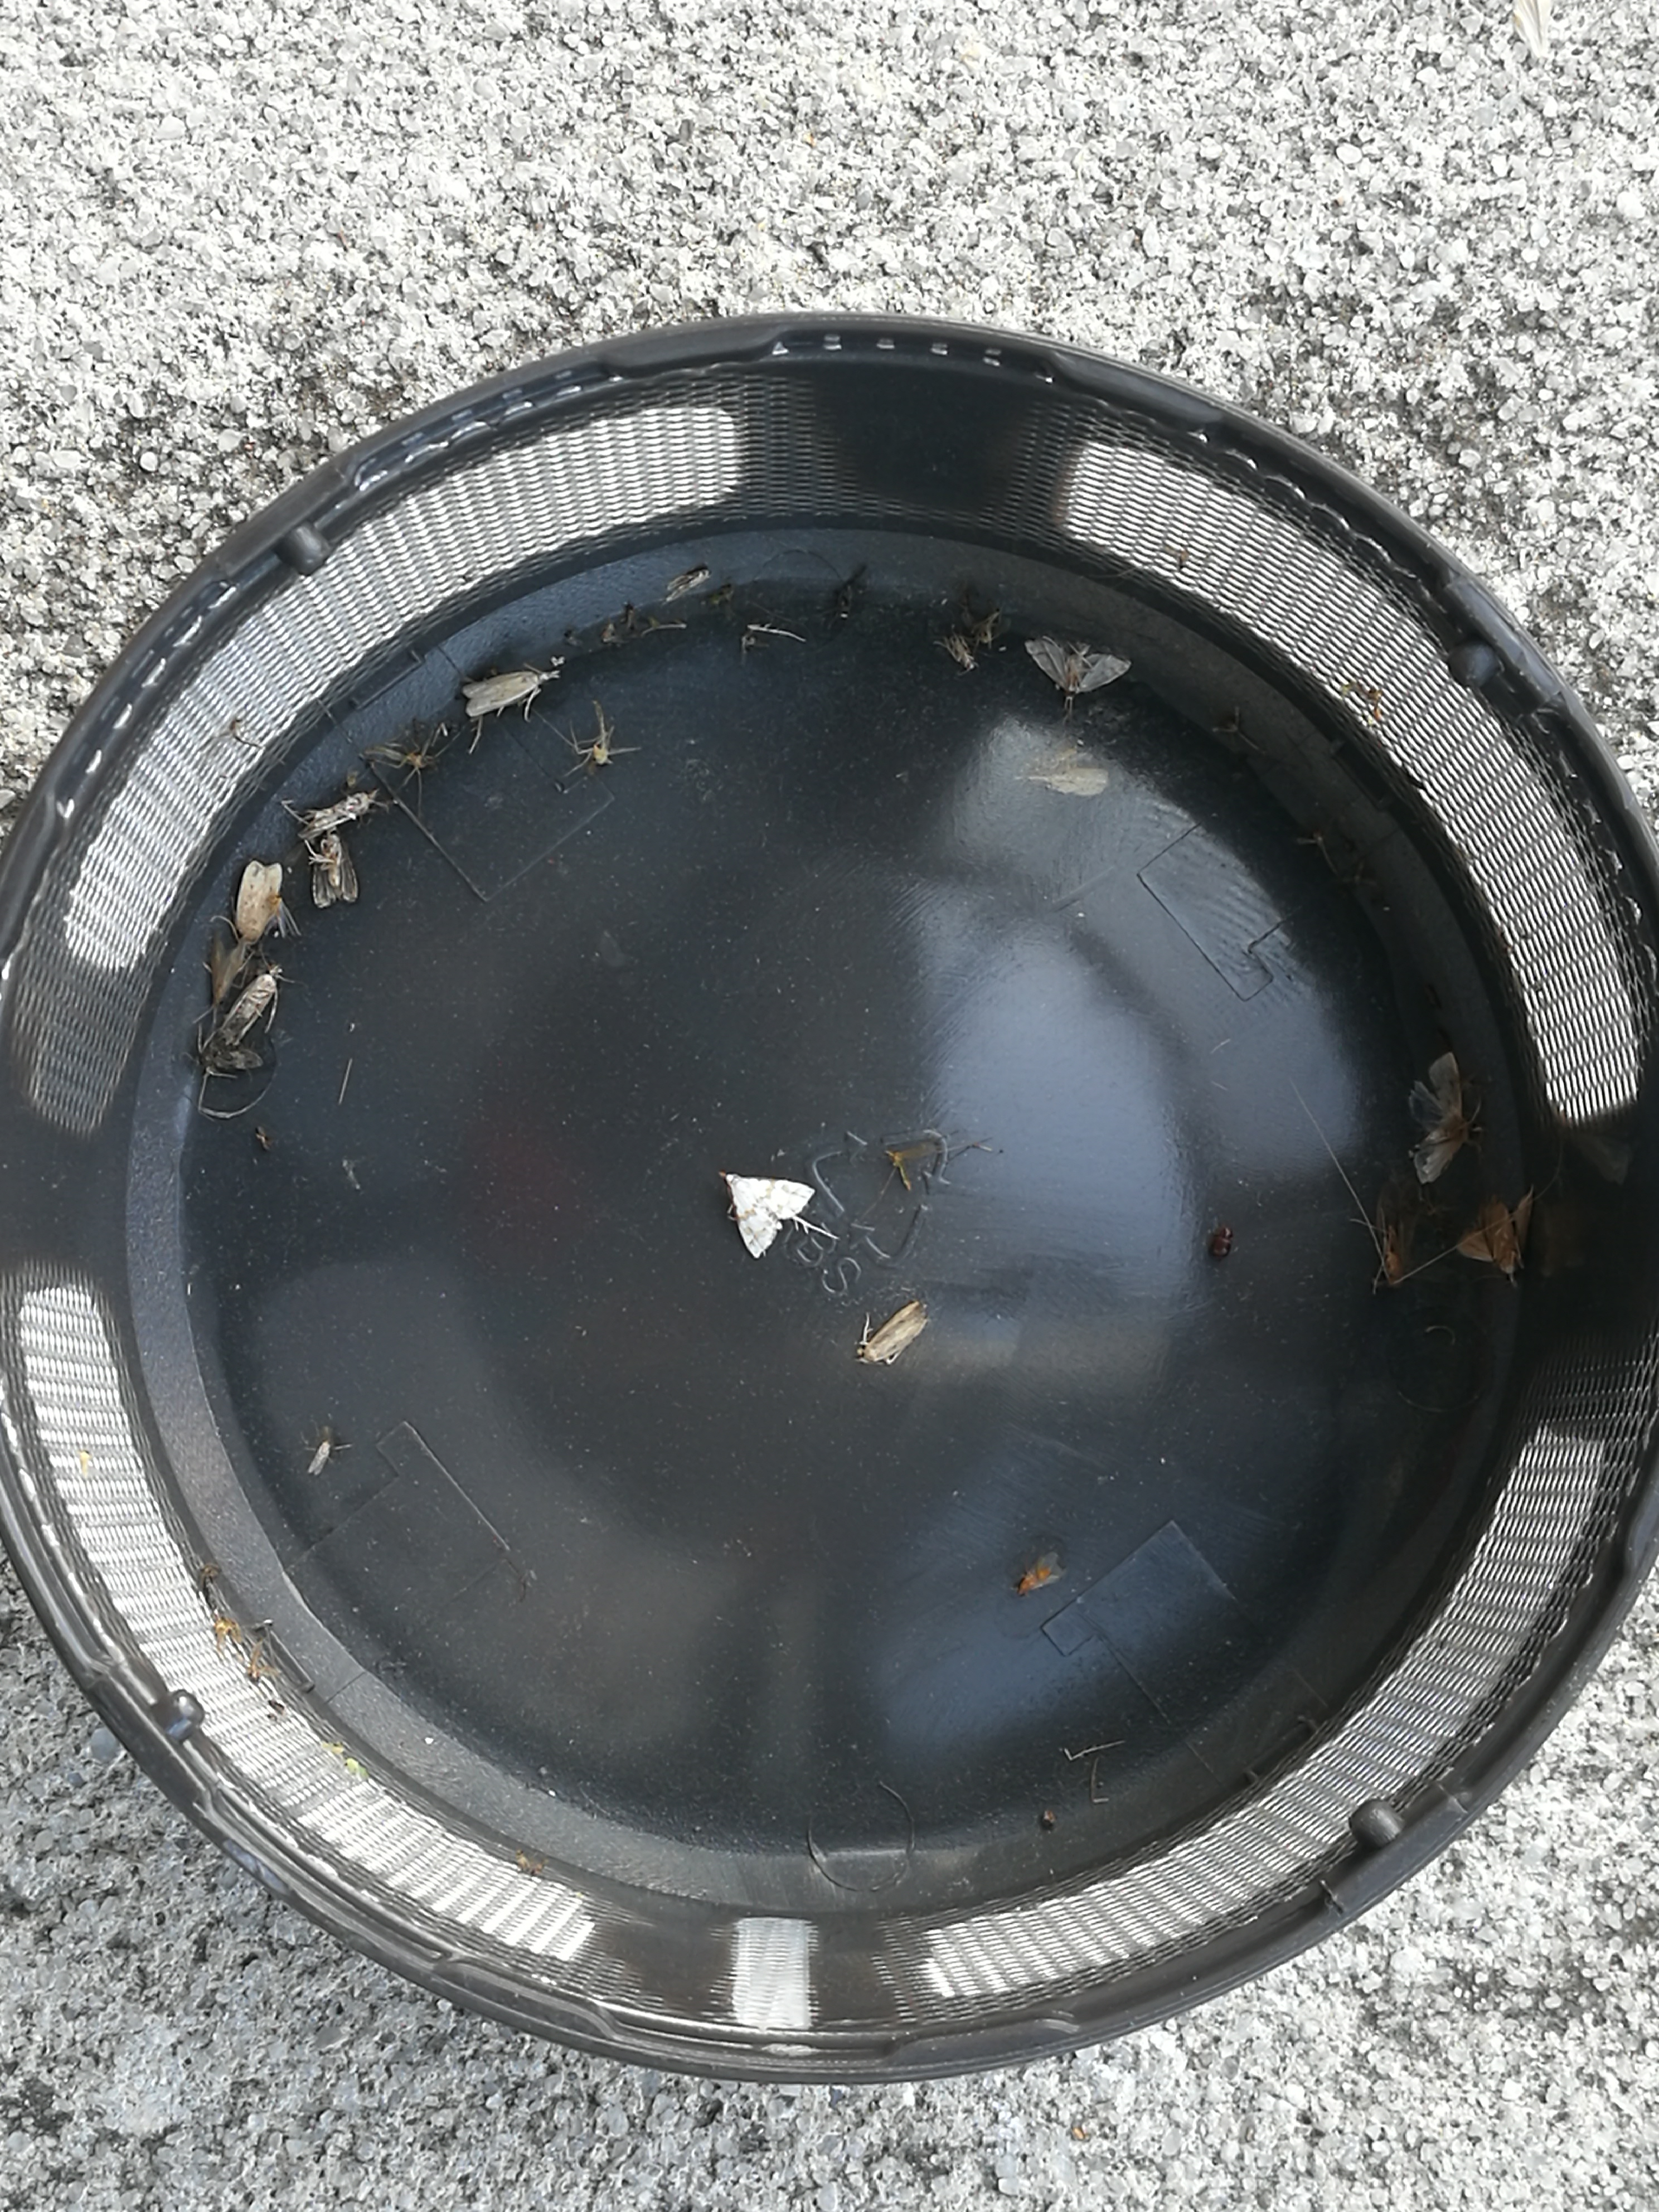mosquito: (221, 965, 282, 1047), (859, 1299, 927, 1362), (462, 671, 542, 716), (209, 939, 244, 1008), (1016, 1552, 1063, 1595)
moth: (1410, 1054, 1471, 1184), (725, 1174, 814, 1258), (1457, 1188, 1532, 1280), (1026, 639, 1131, 691), (1375, 1188, 1413, 1289), (237, 860, 284, 942), (314, 833, 357, 907)
